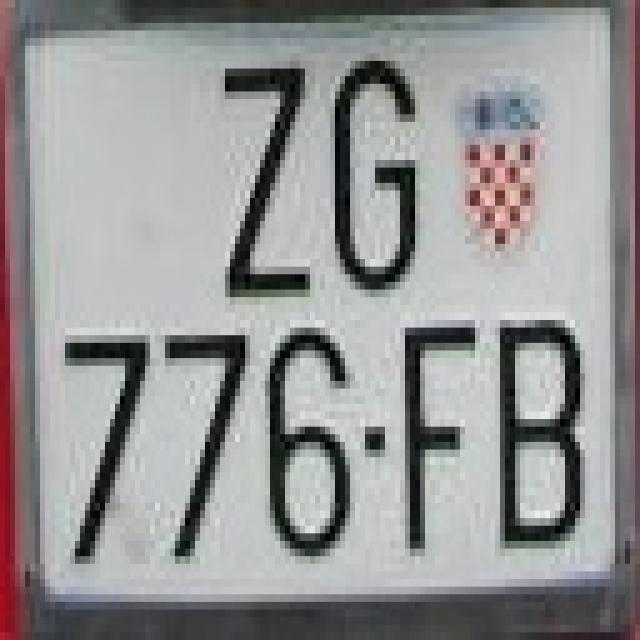6: (262, 320, 352, 571)
7: (58, 328, 148, 572), (160, 323, 245, 568)
B: (490, 308, 590, 552)
F: (395, 312, 480, 564)
G: (325, 53, 430, 297)
Z: (210, 49, 320, 301)
